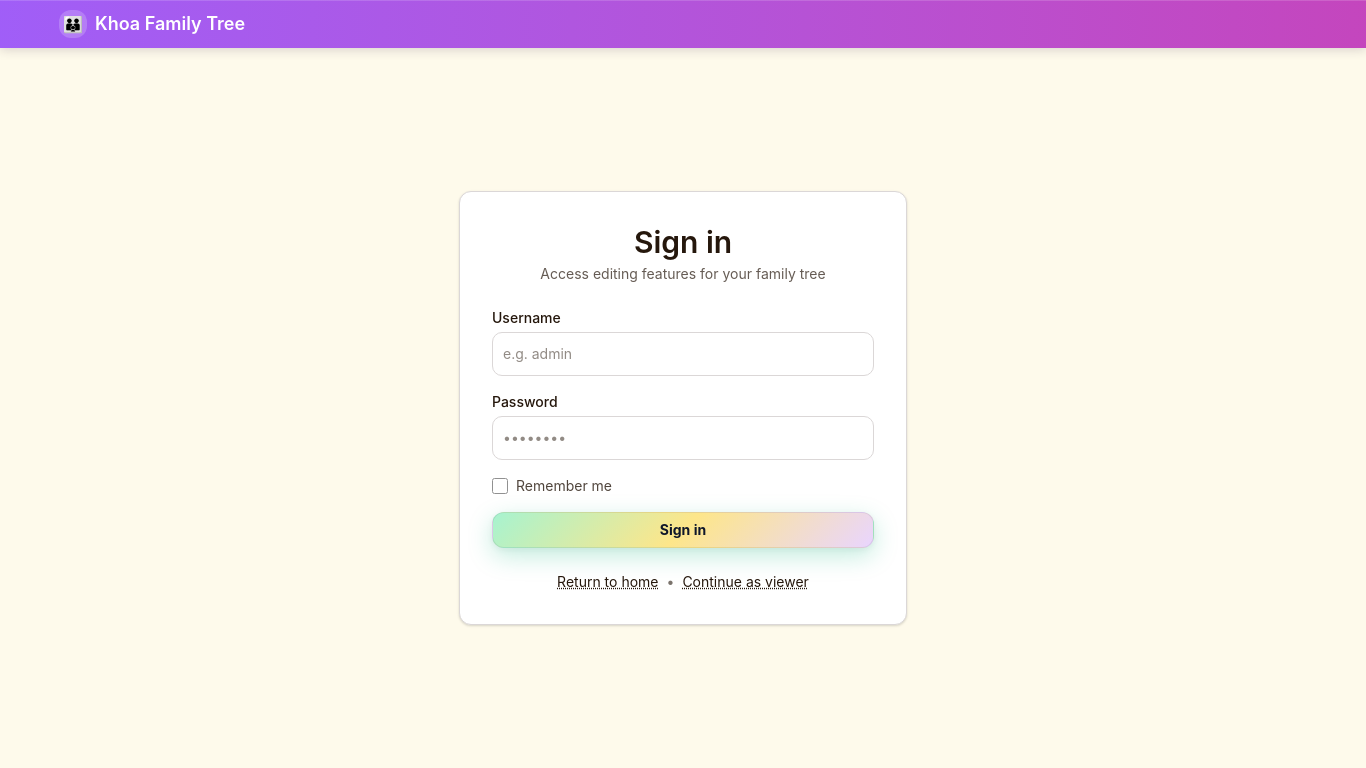
Test case: LoginPageV2 › Authentication Flow › shows loading state during submission
Type "admin" into the field labelled "Username" at (683, 354), box [492,332,874,376]
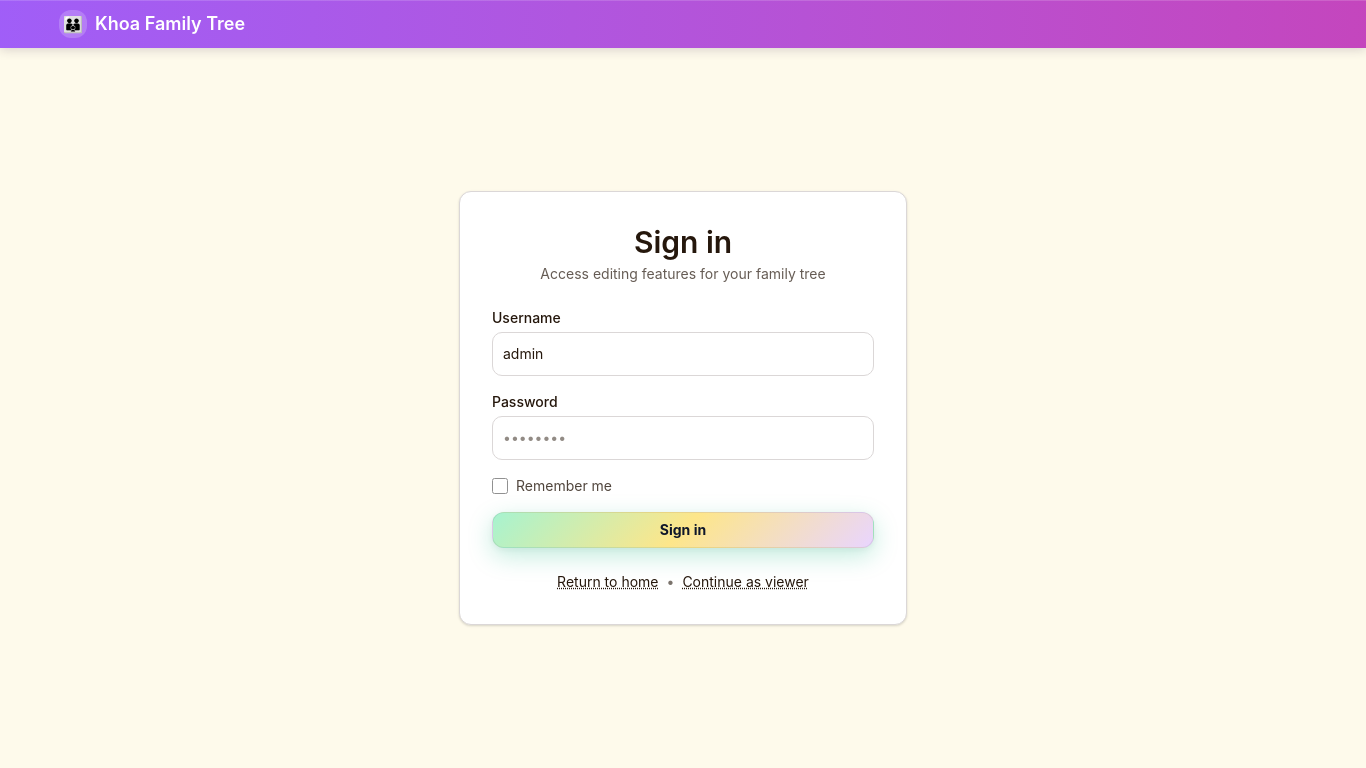
Type "password" into the password field labelled "Password" at (683, 438), box [492,416,874,460]
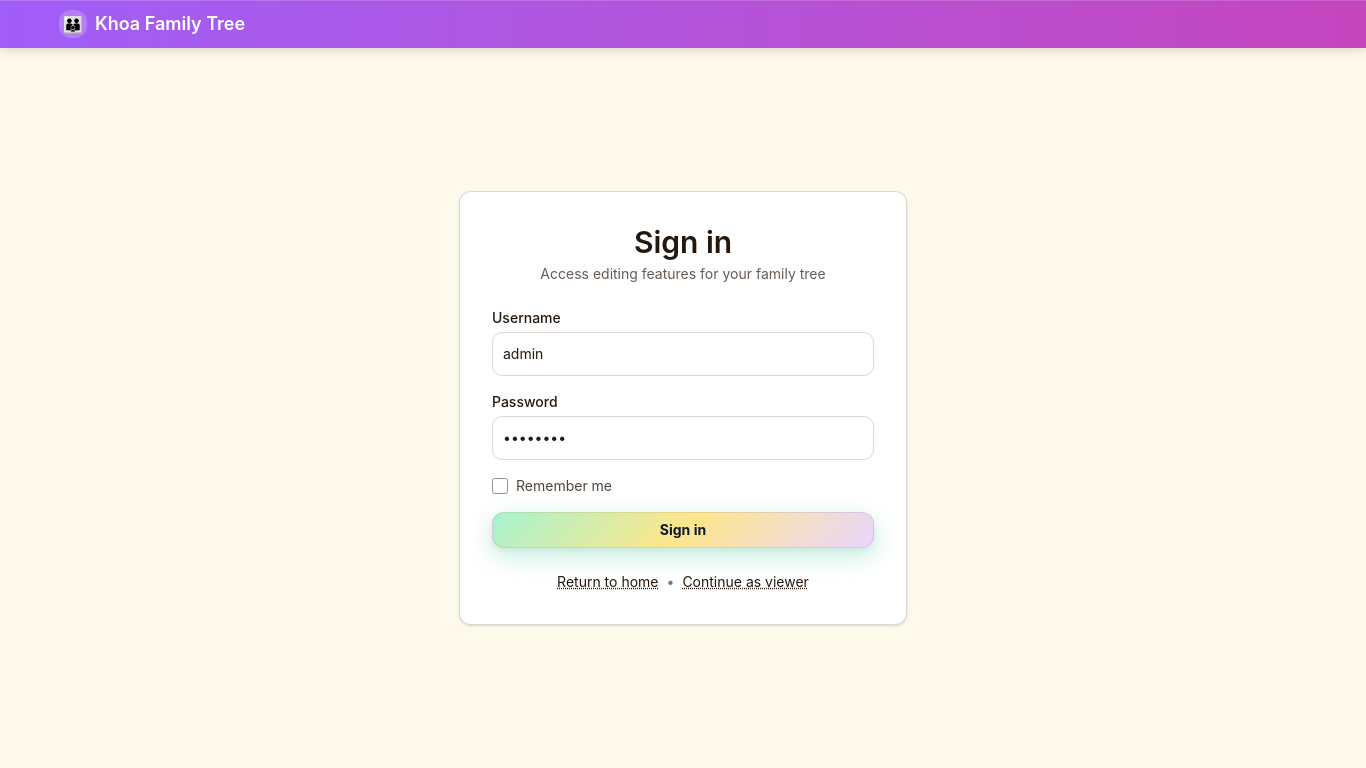
Click the button "Sign in" at (683, 530), box [492,512,874,548]
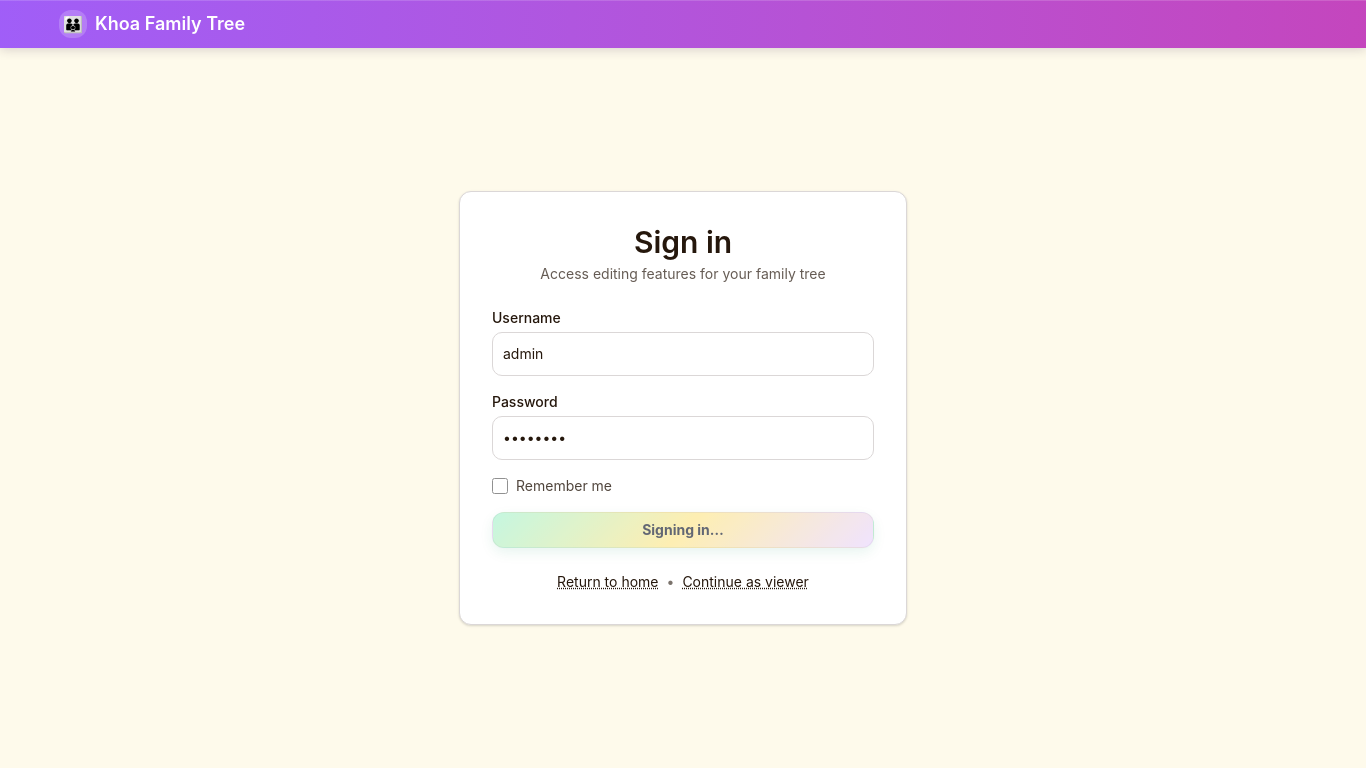
expect the heading "Sign in" is shown: met, box [634,224,732,260]
expect the button "Signing in…" is disabled: met, box [492,512,874,548]
